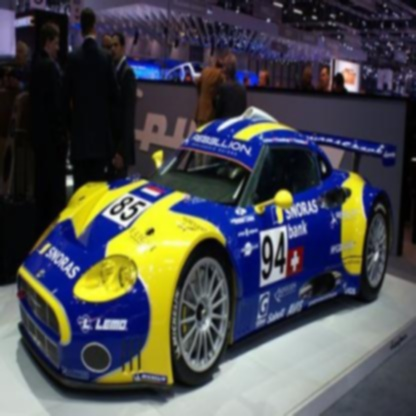Vehicle: (14, 108, 400, 400)
